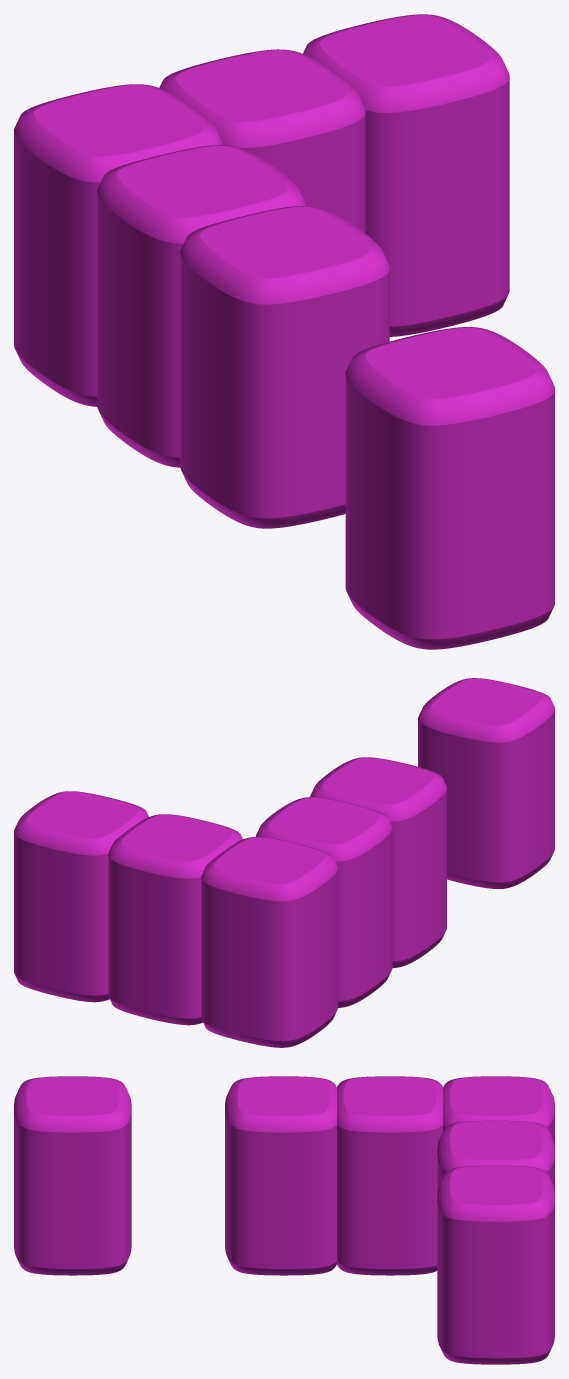
File: Letter_j_Small.fbx
3 renders of one model, top to bottom at view 1: azimuth 30°, elevation 25°; view 2: azimuth 150°, elevation 25°; view 3: azimuth 270°, elevation 25°, orthographic. The views are drawn at different scales.
Visible parts, largest first — view 1: Letter_j; view 2: Letter_j; view 3: Letter_j.
Part boxes in pixels (x1,y1,x2,y2): Letter_j: [14, 14, 554, 649]; Letter_j: [14, 678, 554, 1047]; Letter_j: [14, 1076, 554, 1364].
Size of the model in its own units: 0.2619 by 0.14 by 0.4311.
